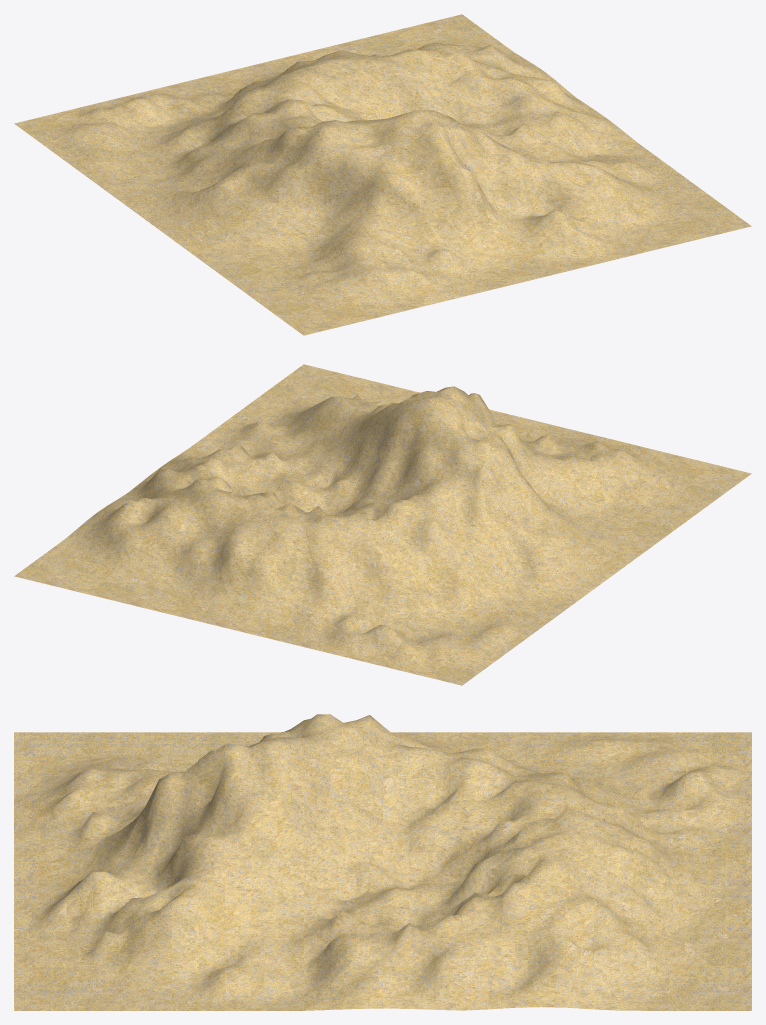
Rendered from skpfile.fbx.
3 renders of one model, top to bottom at view 1: azimuth 30°, elevation 25°; view 2: azimuth 150°, elevation 25°; view 3: azimuth 270°, elevation 25°, orthographic. The views are drawn at different scales.
Parts seen in each view (by area): view 1: Model; view 2: Model; view 3: Model.
Part boxes in pixels (x1=…): Model: x1=14, y1=14, x2=751, y2=335; Model: x1=14, y1=364, x2=751, y2=685; Model: x1=14, y1=714, x2=751, y2=1010.
Size of the model in its own units: 321 by 67.76 by 360.
